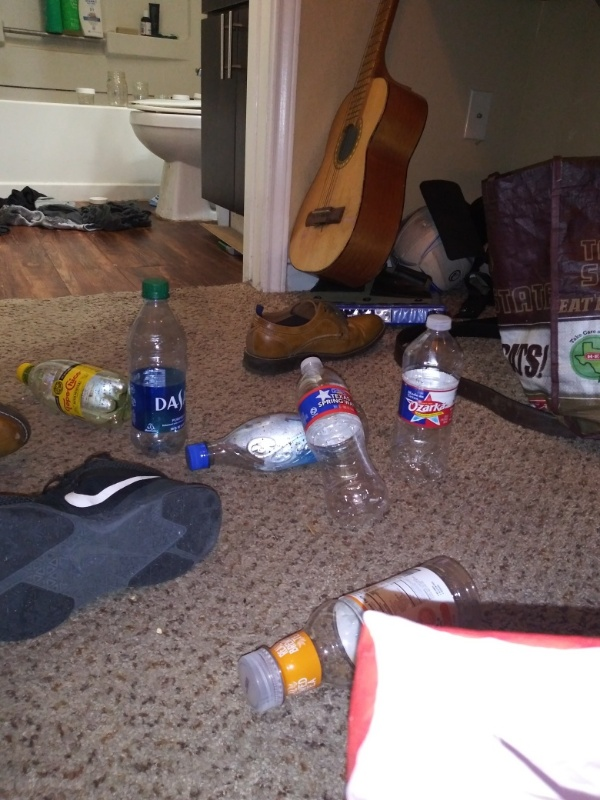bottle: (234, 556, 479, 715), (294, 352, 389, 523), (386, 309, 465, 487), (126, 273, 192, 460), (183, 413, 349, 475), (12, 357, 132, 423)
